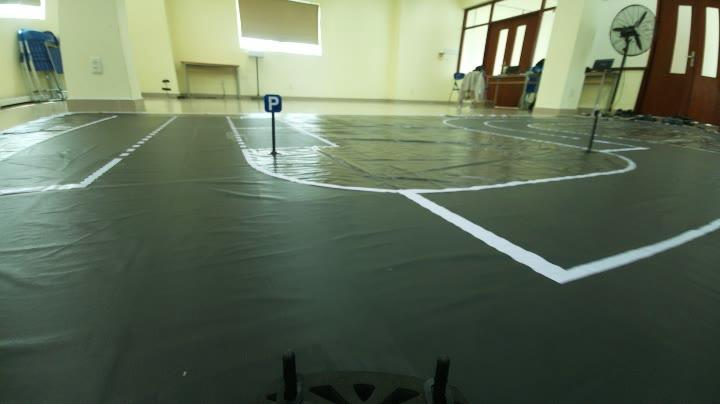parking: (255, 88, 289, 116)
